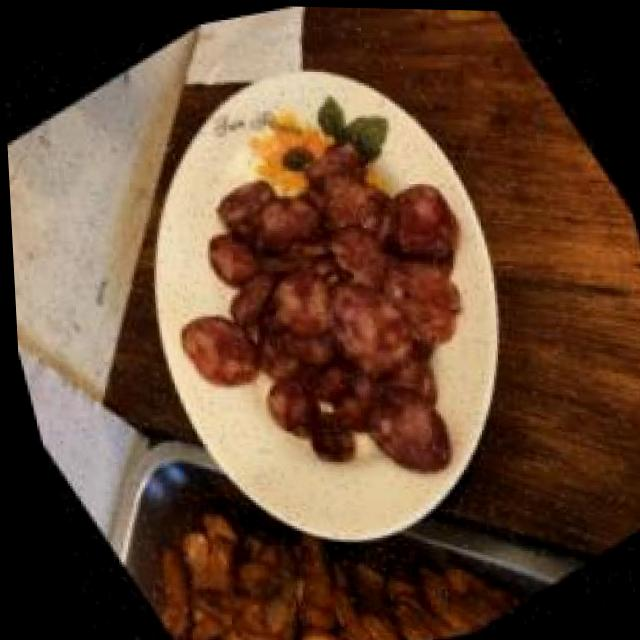chinese_sausage: (91, 70, 596, 573)
